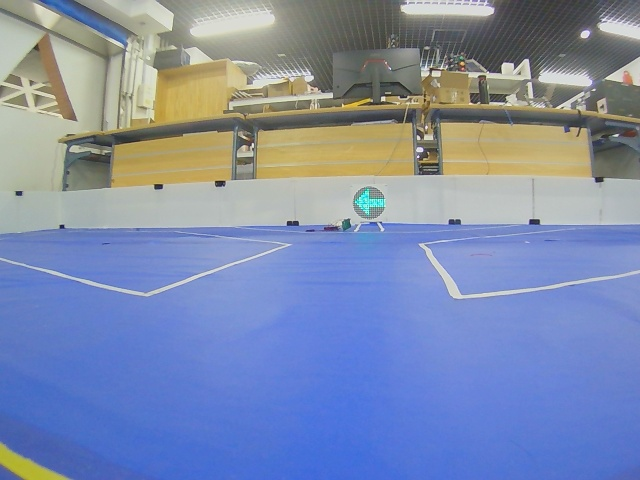left_green: (353, 186, 386, 220)
